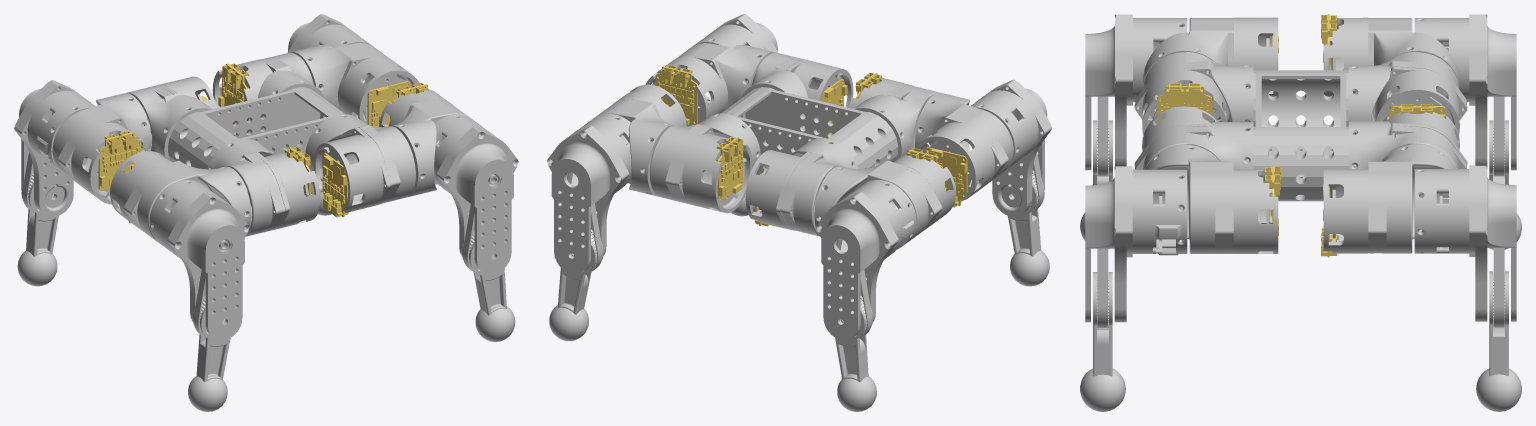
File: robot_dog.glb
The picture shows the model from 3 angles, left to right: view 1: azimuth 30°, elevation 25°; view 2: azimuth 150°, elevation 25°; view 3: azimuth 270°, elevation 25°; orthographic projection. The views are drawn at different scales.
Visible parts, largest first — view 1: full_body_short_leg_glb; view 2: full_body_short_leg_glb; view 3: full_body_short_leg_glb.
Boxes of the visible parts, x1,y1,x2,y2 form: full_body_short_leg_glb: [14, 14, 518, 411]; full_body_short_leg_glb: [547, 14, 1051, 411]; full_body_short_leg_glb: [1080, 14, 1521, 411].
Bounding box in the file's own units: 37.93 × 21.79 × 36.54.
